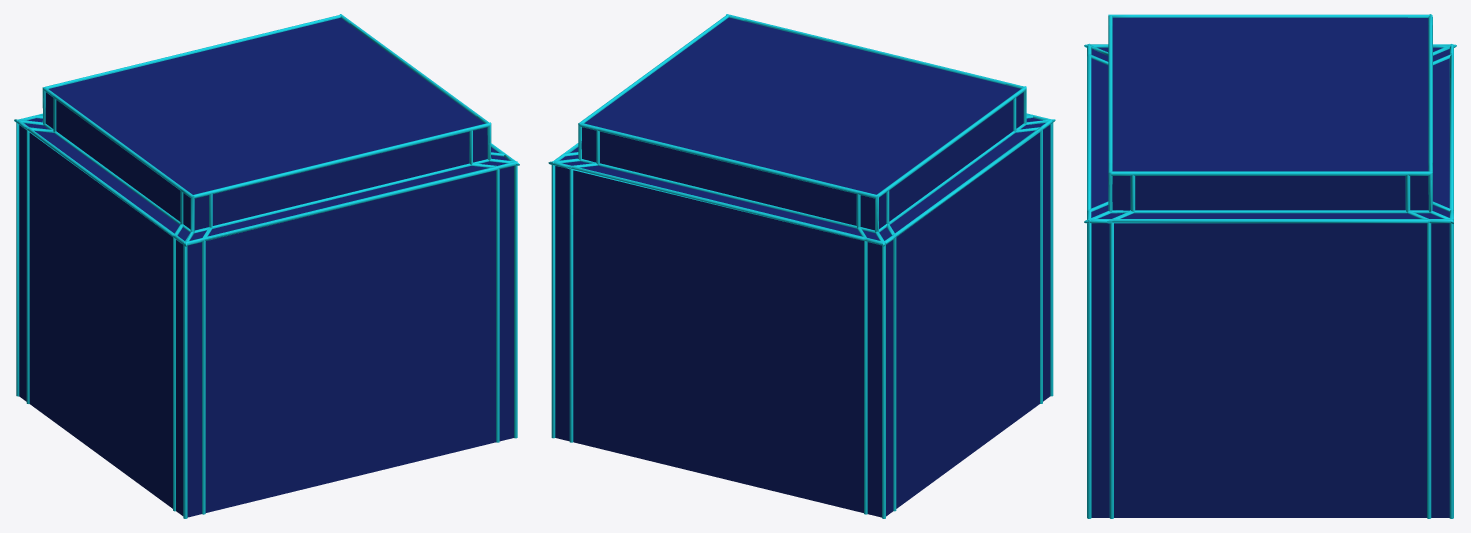
File: Retangulo03_Mapa01.FBX
3 renders of one model, left to right at view 1: azimuth 30°, elevation 25°; view 2: azimuth 150°, elevation 25°; view 3: azimuth 270°, elevation 25°, orthographic. The views are drawn at different scales.
Visible parts, largest first — view 1: Box003, Shape003; view 2: Box003, Shape003; view 3: Box003, Shape003.
Boxes of the visible parts, x1,y1,x2,y2 form: Box003: [19, 18, 513, 517]; Shape003: [14, 14, 519, 518]; Box003: [555, 17, 1050, 517]; Shape003: [548, 14, 1055, 518]; Box003: [1091, 17, 1449, 517]; Shape003: [1084, 14, 1456, 518].
Size of the model in its own units: 191 by 169 by 169.
